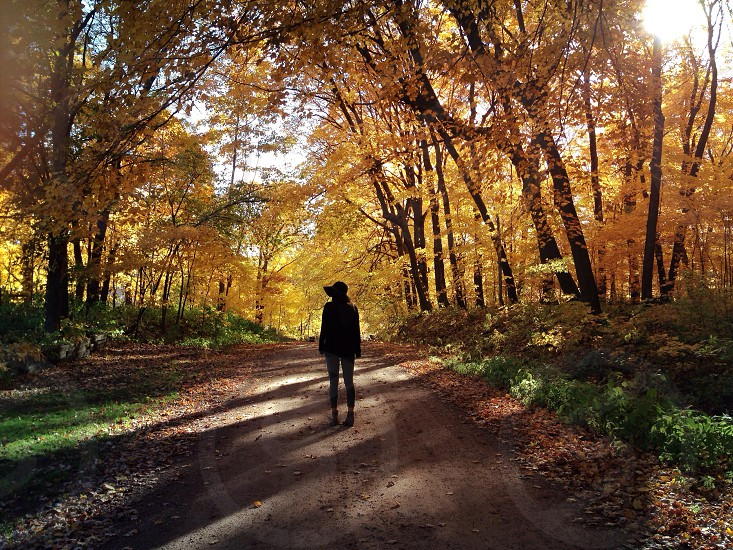Person: (317, 279, 372, 429)
